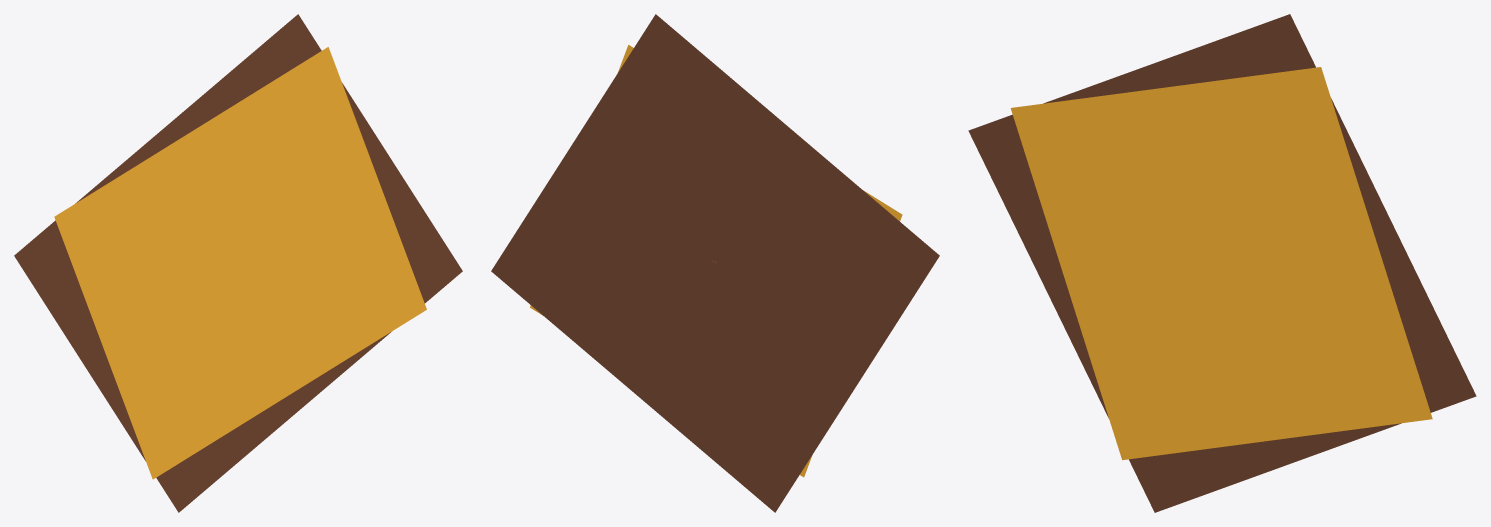
File: explode.gltf
The picture shows the model from 3 angles, left to right: view 1: azimuth 30°, elevation 25°; view 2: azimuth 150°, elevation 25°; view 3: azimuth 330°, elevation 25°; orthographic projection. The views are drawn at different scales.
Parts seen in each view (by area): view 1: Plane, Plane.002; view 2: Plane.002; view 3: Plane, Plane.002.
Part boxes in pixels (x1,y1,x2,y2): Plane: [54, 47, 426, 479]; Plane.002: [14, 14, 462, 512]; Plane.002: [491, 14, 939, 512]; Plane: [1010, 67, 1432, 460]; Plane.002: [968, 14, 1476, 512].
Bounding box in the file's own units: 1873 × 1873 × 64.79.
